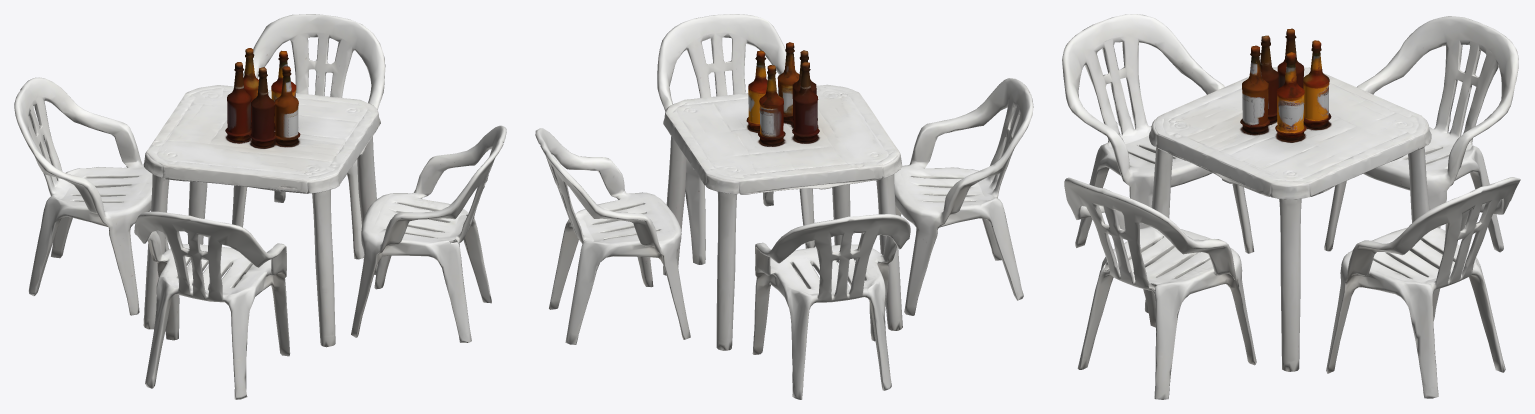
File: quintal_mesa.glb
3 renders of one model, left to right at view 1: azimuth 30°, elevation 25°; view 2: azimuth 150°, elevation 25°; view 3: azimuth 270°, elevation 25°, orthographic. The views are drawn at different scales.
Visible parts, largest first — view 1: tripo_node_d42ca542-aa40-4c26-99b0-c65bb5e5c035; view 2: tripo_node_d42ca542-aa40-4c26-99b0-c65bb5e5c035; view 3: tripo_node_d42ca542-aa40-4c26-99b0-c65bb5e5c035.
Boxes of the visible parts, x1=… form: tripo_node_d42ca542-aa40-4c26-99b0-c65bb5e5c035: x1=14, y1=14, x2=506, y2=399; tripo_node_d42ca542-aa40-4c26-99b0-c65bb5e5c035: x1=535, y1=14, x2=1033, y2=399; tripo_node_d42ca542-aa40-4c26-99b0-c65bb5e5c035: x1=1062, y1=14, x2=1520, y2=399.
Size of the model in its own units: 0.9796 by 0.6282 by 0.9778.
1 material, 1 textured.
